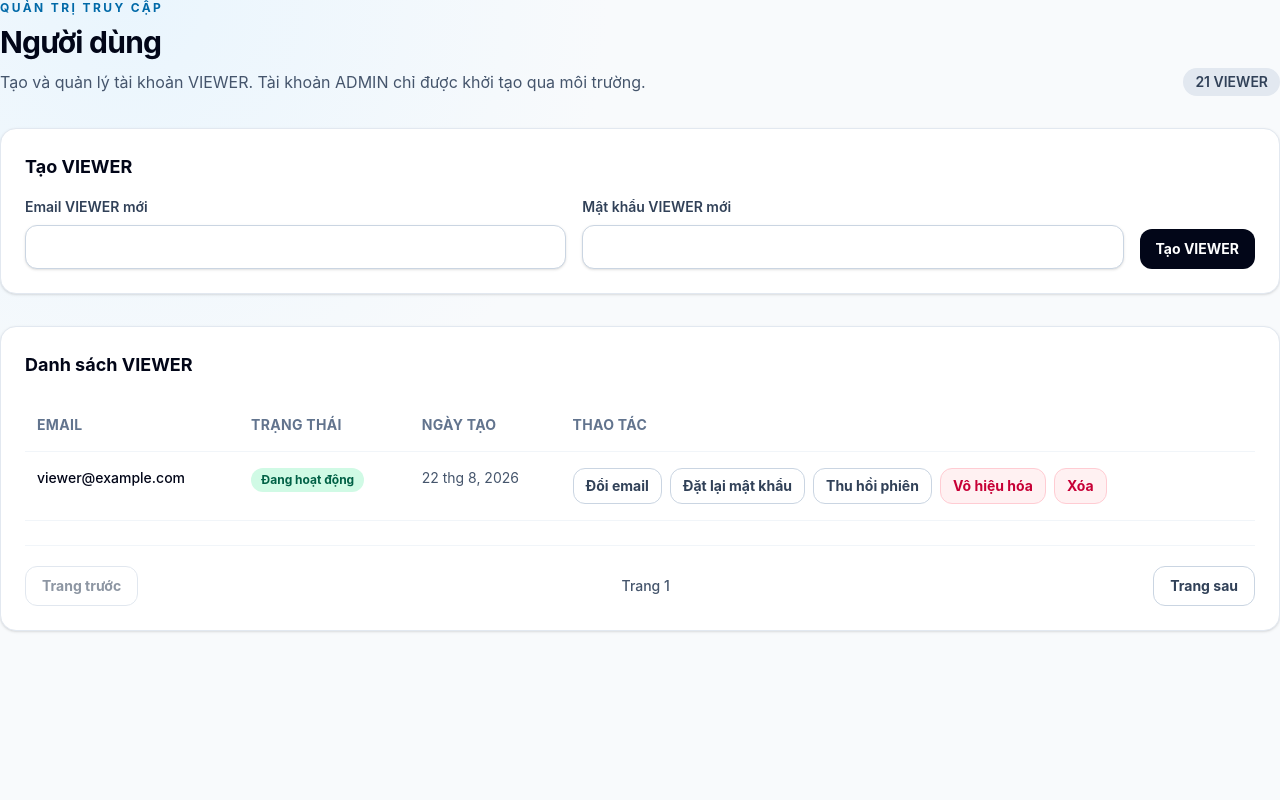
Test: UsersScreen › falls back one page when a refetch observes an unrelated out-of-band list shrink
This screenshot has width=1280, height=800.
Expected: the text "viewer@example.com" is shown, [25, 452, 239, 521]
Step 1. Click the button "Trang sau" → (1204, 586), box [1153, 566, 1255, 606]
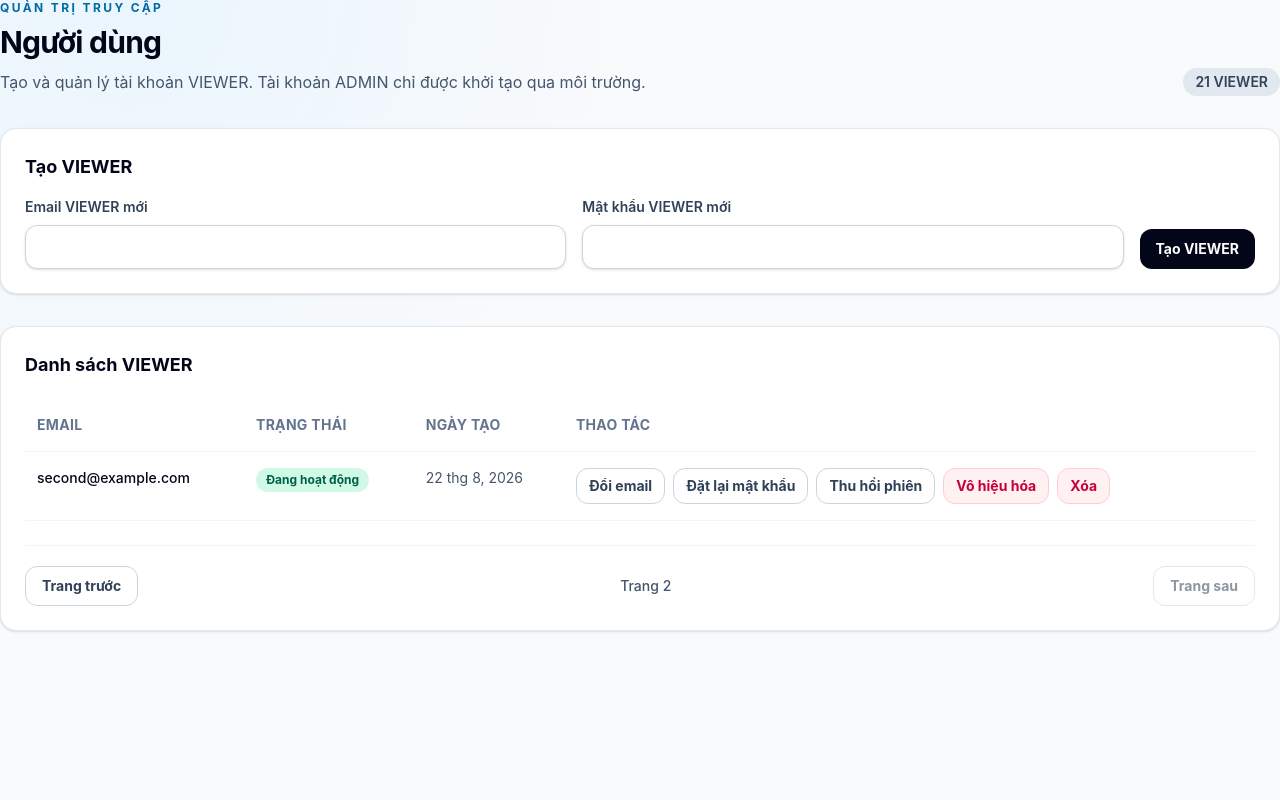
Expected: the text "second@example.com" is shown, [25, 452, 244, 521]
Step 2. Click the button "Thu hồi phiên" → (876, 486), box [816, 468, 935, 504]
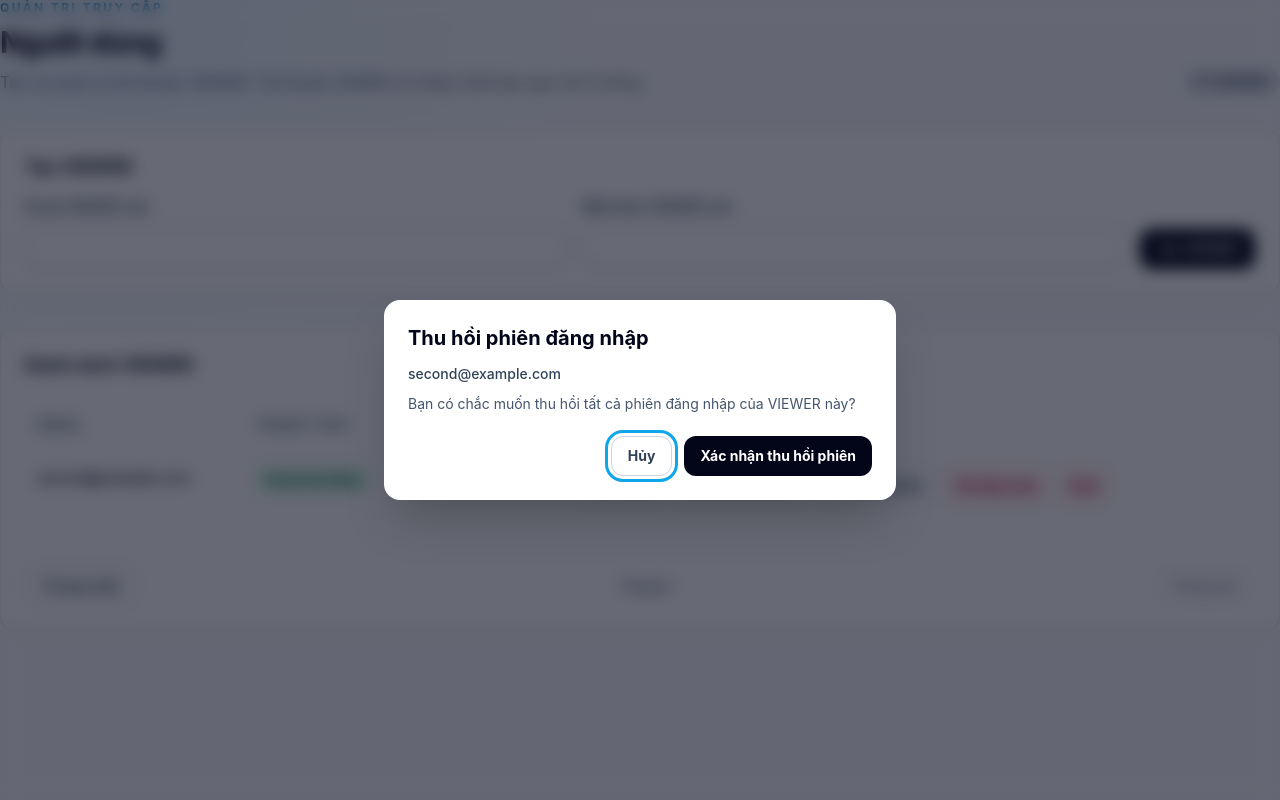
Step 3. Click the button "Xác nhận thu hồi phiên" → (778, 456), box [684, 436, 872, 476]
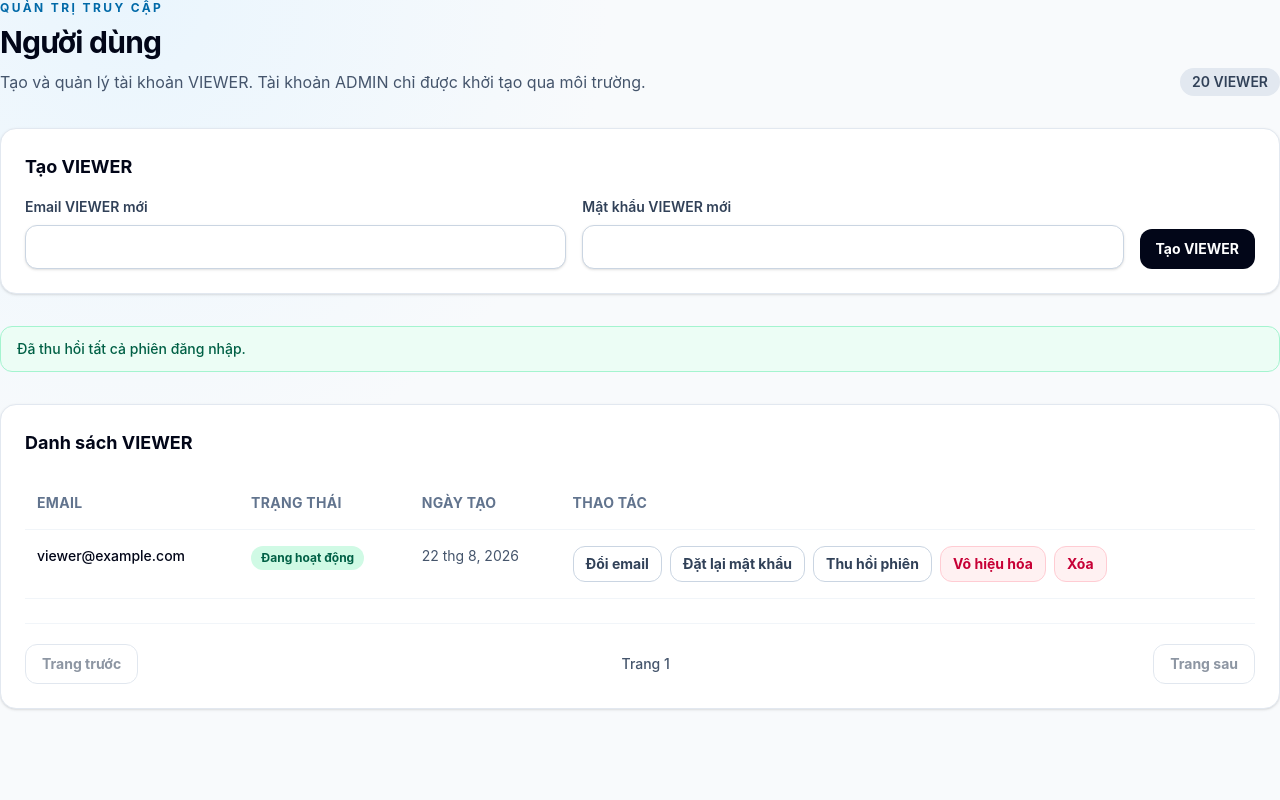
Expected: the text "viewer@example.com" is shown, [25, 530, 239, 599]
Expected: the text "Trang 1" is shown, [622, 654, 670, 674]
